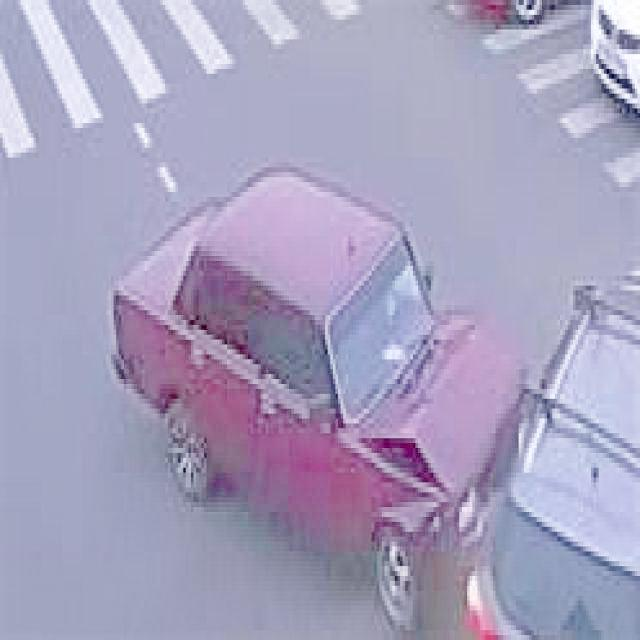Car: (106, 168, 522, 622), (440, 231, 640, 640)
Minor Accident: (118, 160, 640, 640)
